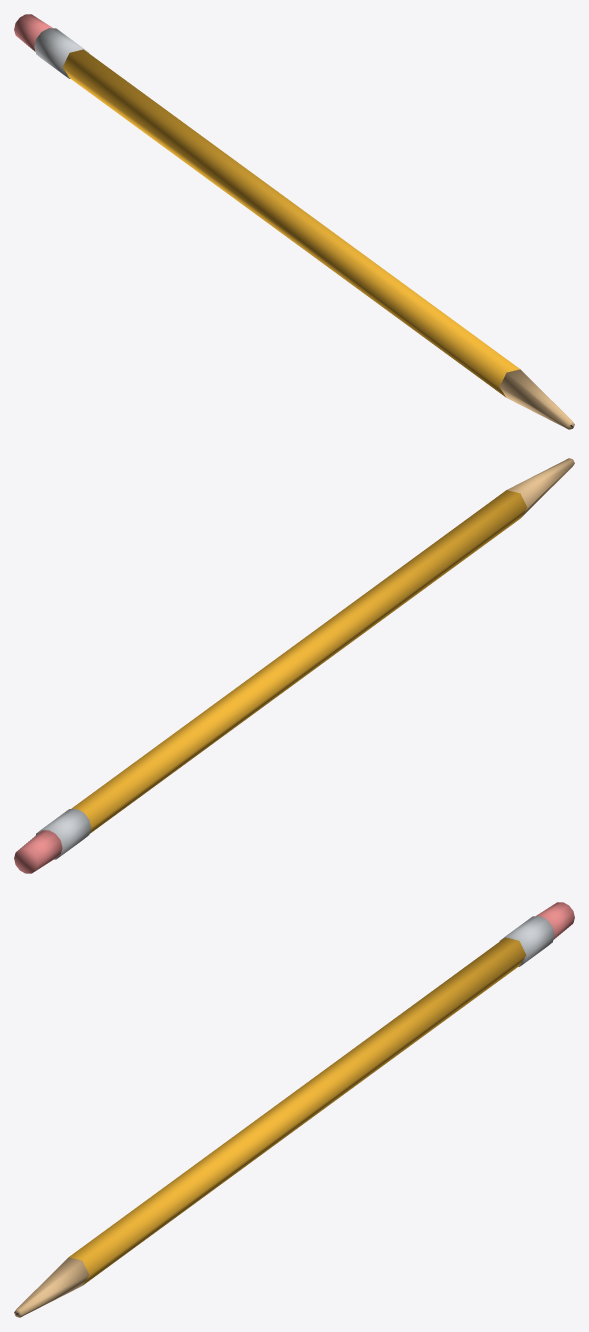
File: prop_pencil.glb
3 renders of one model, top to bottom at view 1: azimuth 30°, elevation 25°; view 2: azimuth 150°, elevation 25°; view 3: azimuth 330°, elevation 25°, orthographic.
Visible parts, largest first — view 1: prop_pencil; view 2: prop_pencil; view 3: prop_pencil.
Boxes of the visible parts, x1,y1,x2,y2 form: prop_pencil: (14,14,574,429); prop_pencil: (14,458,574,873); prop_pencil: (14,902,574,1317).
Bounding box in the file's own units: 0.0074 × 0.0074 × 0.2385.
